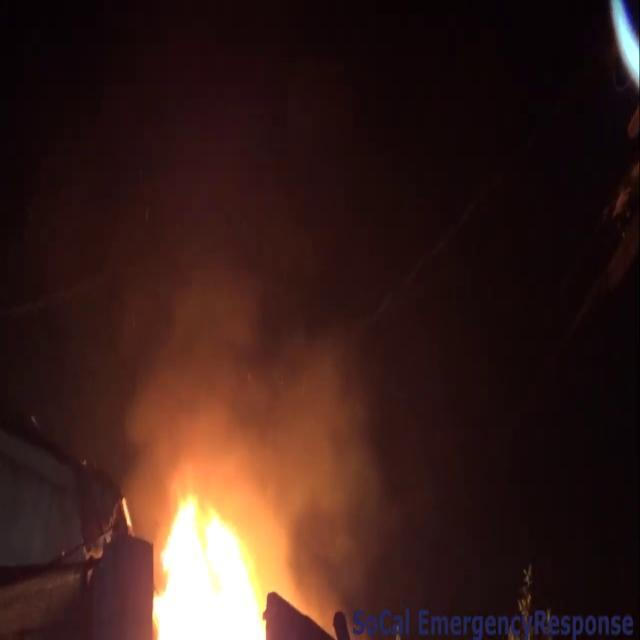Fire: (134, 470, 286, 640)
Smoke: (70, 145, 408, 560)
